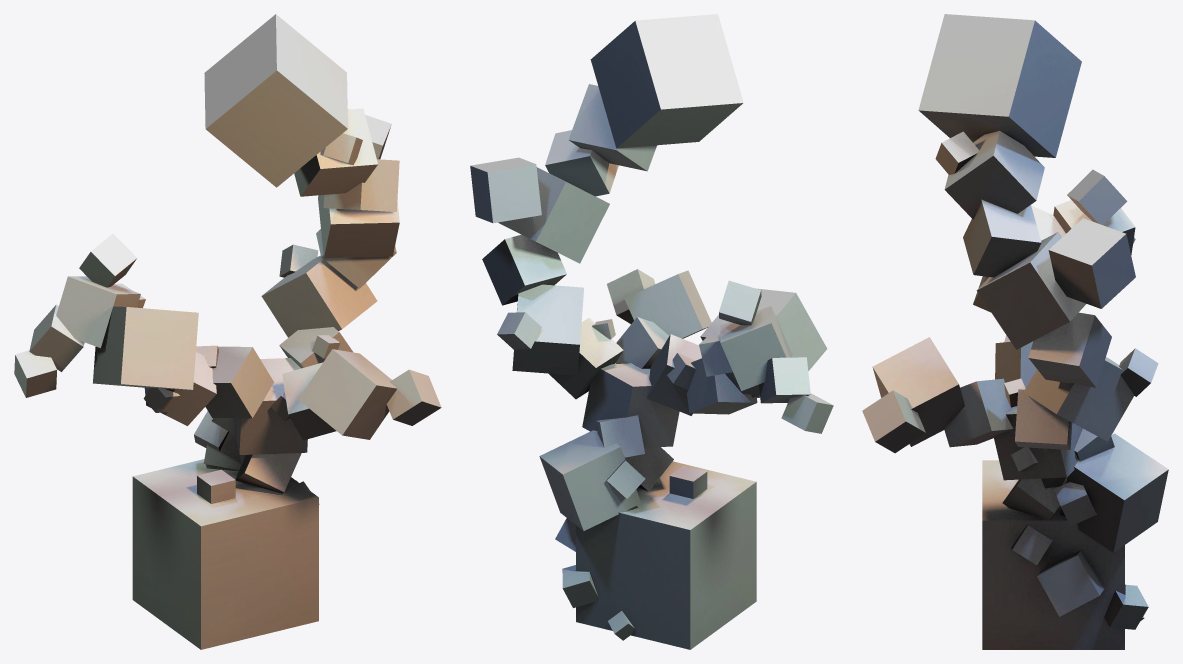
File: cubes.glb
3 renders of one model, left to right at view 1: azimuth 30°, elevation 25°; view 2: azimuth 150°, elevation 25°; view 3: azimuth 270°, elevation 25°, orthographic. The views are drawn at different scales.
Parts seen in each view (by area): view 1: cube32, portfolio, blog, about, contact, cube7, cube2, cube10, cube1, cube9, cube8, cube25 (+15 smaller); view 2: cube32, portfolio, cube0, contact, cube7, cube1, cube17, cube5, about, cube10, blog, cube9 (+17 smaller); view 3: portfolio, cube32, cube0, cube7, cube9, cube17, about, contact, cube5, cube8, cube6, cube1 (+15 smaller).
Boxes of the visible parts, x1=… form: cube32: x1=132, y1=459, x2=318, y2=649; portfolio: x1=204, y1=14, x2=347, y2=187; blog: x1=93, y1=306, x2=198, y2=389; about: x1=298, y1=349, x2=397, y2=439; contact: x1=261, y1=255, x2=377, y2=337; cube7: x1=318, y1=195, x2=399, y2=258; cube2: x1=205, y1=346, x2=273, y2=418; cube10: x1=56, y1=276, x2=140, y2=348; cube1: x1=235, y1=358, x2=307, y2=454; cube9: x1=294, y1=108, x2=377, y2=196; cube8: x1=323, y1=159, x2=399, y2=211; cube25: x1=386, y1=369, x2=441, y2=425; cube32: x1=576, y1=461, x2=756, y2=649; portfolio: x1=590, y1=14, x2=743, y2=148; cube0: x1=539, y1=430, x2=641, y2=530; contact: x1=512, y1=284, x2=584, y2=375; cube7: x1=498, y1=167, x2=609, y2=263; cube1: x1=582, y1=363, x2=679, y2=447; cube17: x1=470, y1=157, x2=541, y2=223; cube5: x1=482, y1=234, x2=566, y2=305; about: x1=624, y1=270, x2=711, y2=338; cube10: x1=720, y1=306, x2=792, y2=390; blog: x1=700, y1=288, x2=827, y2=395; cube9: x1=568, y1=84, x2=656, y2=171; portfolio: x1=918, y1=14, x2=1081, y2=157; cube32: x1=982, y1=460, x2=1124, y2=649; cube0: x1=1060, y1=433, x2=1168, y2=552; cube7: x1=976, y1=232, x2=1086, y2=349; cube9: x1=944, y1=130, x2=1044, y2=219; cube17: x1=1048, y1=218, x2=1135, y2=308; about: x1=872, y1=337, x2=964, y2=446; contact: x1=1023, y1=357, x2=1134, y2=441; cube5: x1=1028, y1=312, x2=1111, y2=387; cube8: x1=963, y1=199, x2=1041, y2=277; cube6: x1=944, y1=378, x2=1013, y2=447; cube1: x1=993, y1=406, x2=1082, y2=480.
Size of the model in its own units: 0.8935 by 1.38 by 0.6132.
Materials: 2 (2 with a texture image).
